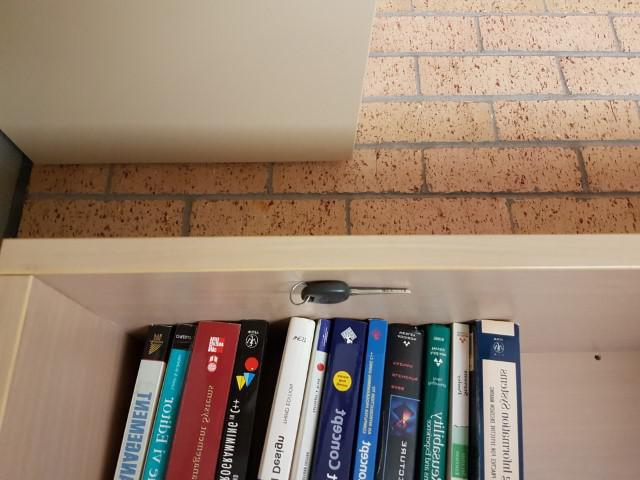key: (303, 281, 412, 304)
